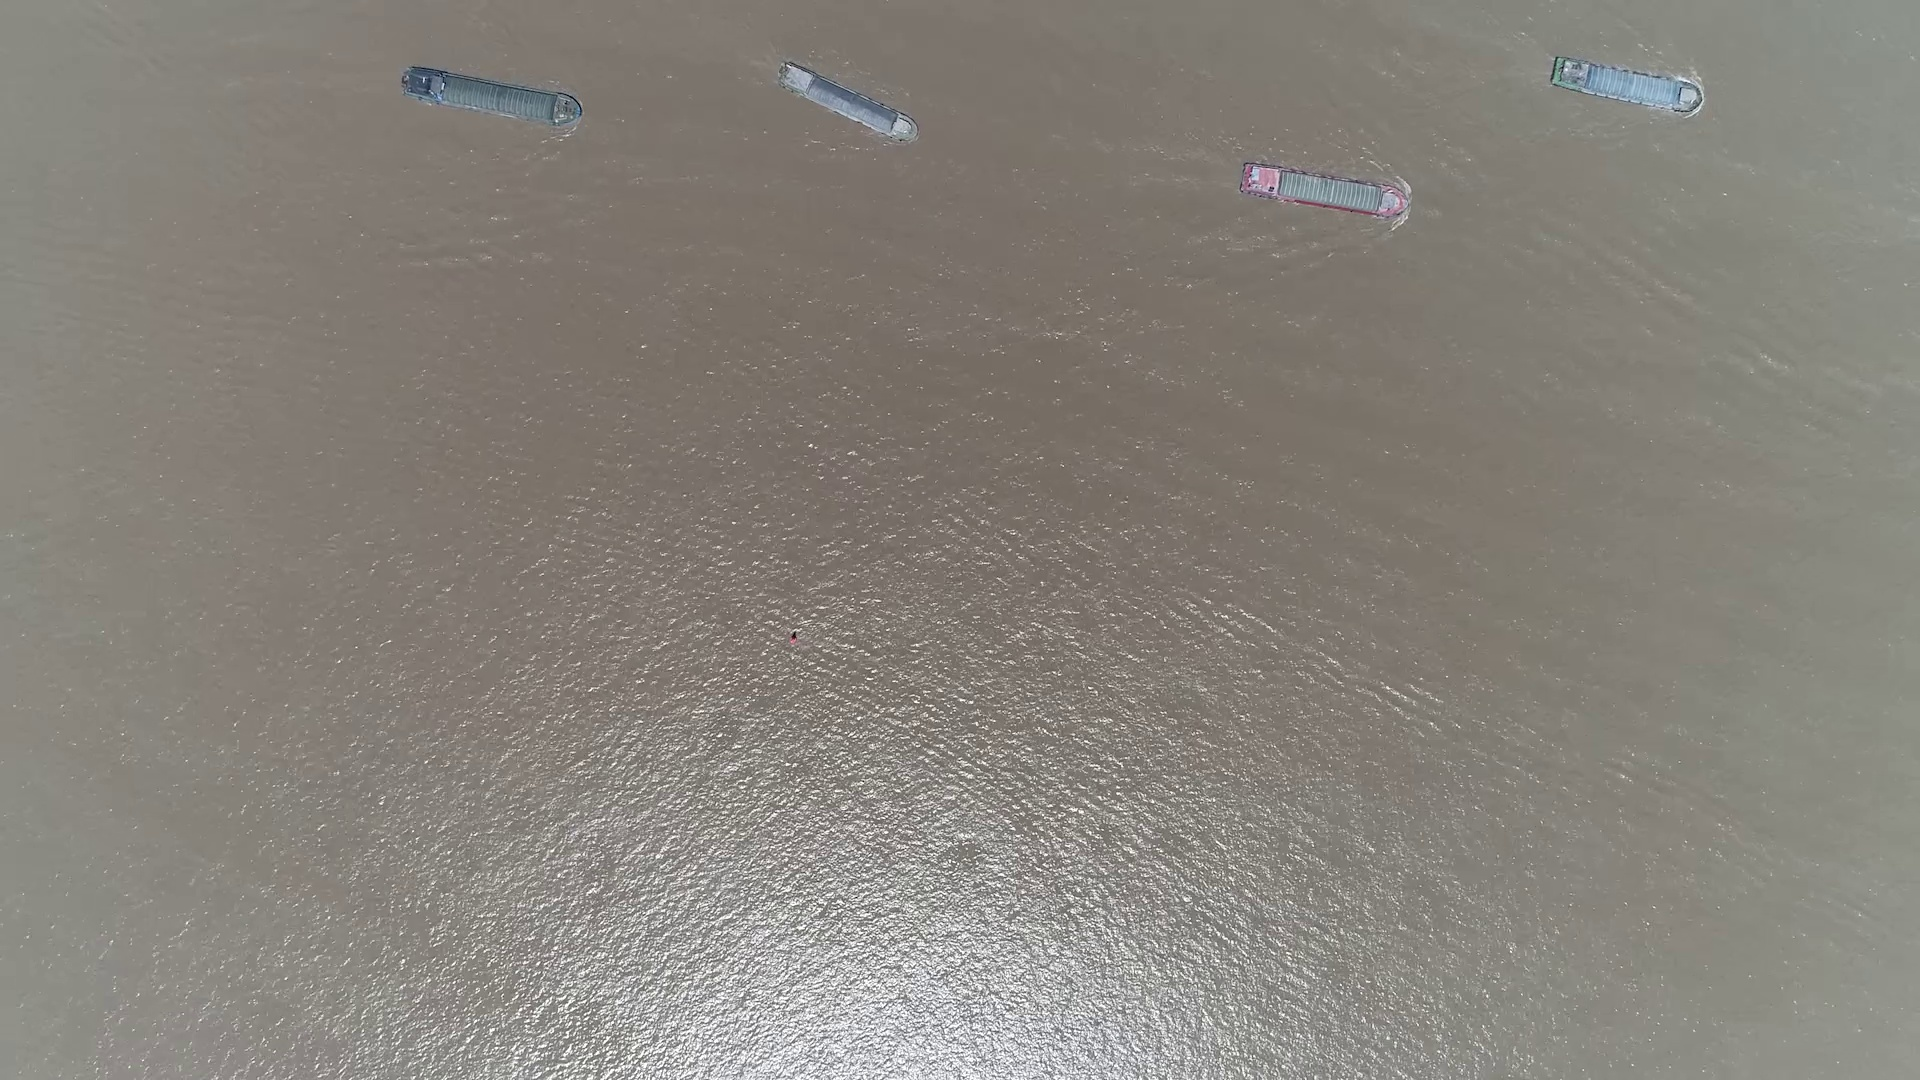ship: (401, 67, 582, 128), (778, 67, 918, 142), (1236, 164, 1410, 220), (1549, 58, 1701, 112)
